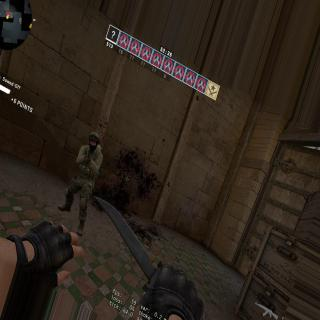CT-Body: (62, 130, 102, 231)
CT-Head: (87, 135, 100, 150)
